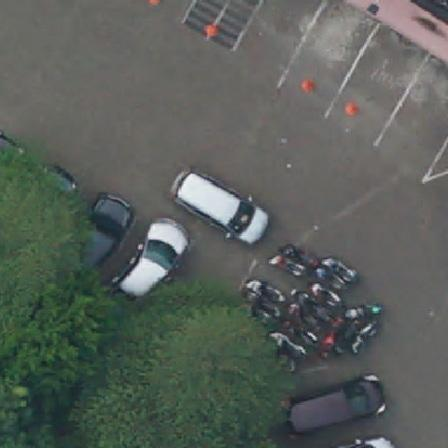Car: (172, 164, 271, 252), (114, 219, 189, 323), (286, 377, 385, 427), (74, 194, 131, 270), (35, 163, 81, 201), (338, 435, 400, 448)
Motorcycle: (350, 303, 384, 354), (269, 252, 304, 283), (243, 294, 284, 320), (268, 330, 303, 358), (282, 238, 319, 264), (318, 315, 341, 355), (312, 268, 347, 292), (328, 254, 357, 282), (314, 282, 343, 309), (335, 309, 354, 349), (248, 277, 282, 299), (299, 322, 322, 352), (291, 303, 314, 330), (302, 290, 319, 321)
